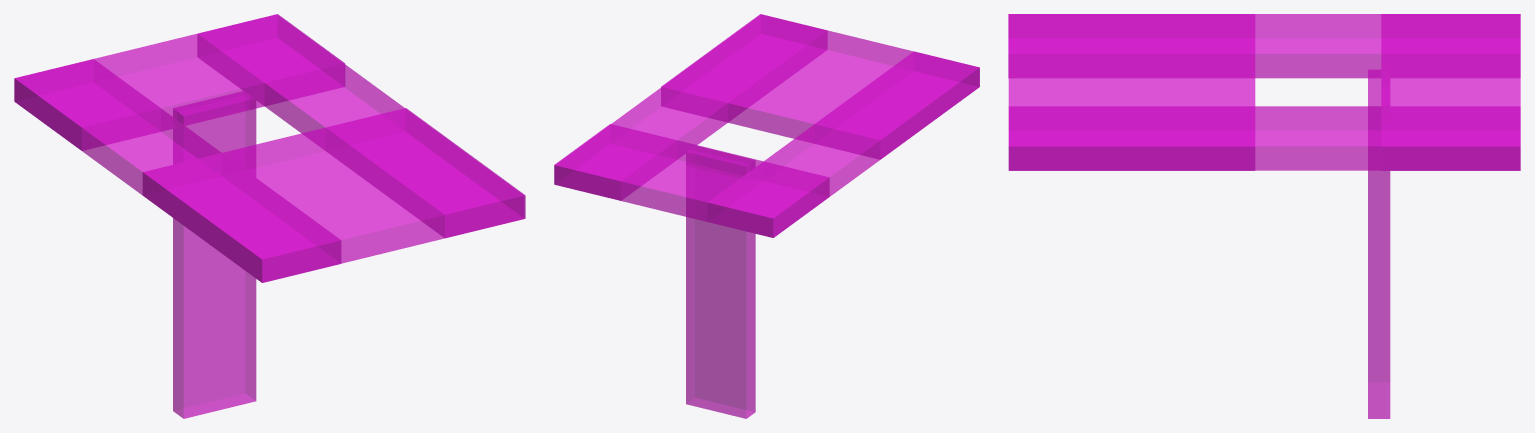
File: SM_Veh_Ship_Ladder_01_Collision.fbx
3 renders of one model, left to right at view 1: azimuth 30°, elevation 25°; view 2: azimuth 150°, elevation 25°; view 3: azimuth 270°, elevation 25°, orthographic. The views are drawn at different scales.
Parts seen in each view (by area): view 1: SM_Veh_Ship_Ladder_01_Collision; view 2: SM_Veh_Ship_Ladder_01_Collision; view 3: SM_Veh_Ship_Ladder_01_Collision.
Boxes of the visible parts, <box> form: SM_Veh_Ship_Ladder_01_Collision: <box>14,14,525,418</box>; SM_Veh_Ship_Ladder_01_Collision: <box>554,14,979,418</box>; SM_Veh_Ship_Ladder_01_Collision: <box>1008,14,1520,418</box>.
Bounding box in the file's own units: 261 × 293 × 425.
